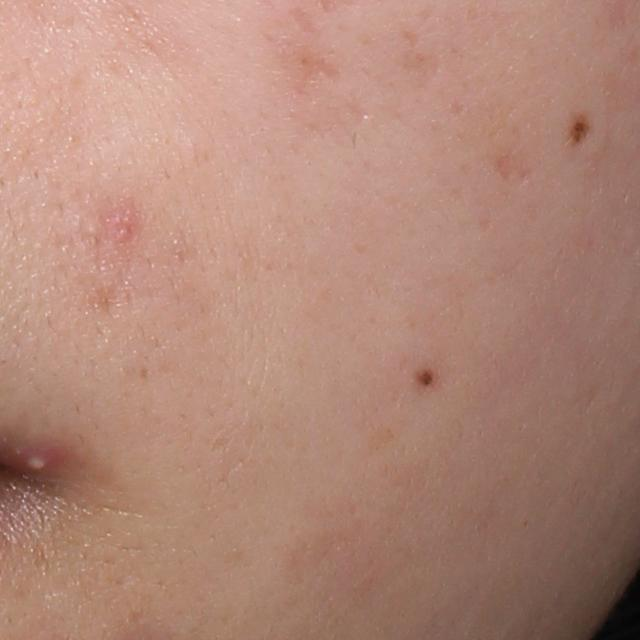atrophic_scar: (301, 49, 338, 89), (289, 4, 320, 35)
nevus: (571, 115, 591, 143), (416, 368, 436, 386)
papule: (105, 211, 137, 246)
pustule: (23, 450, 54, 473)
